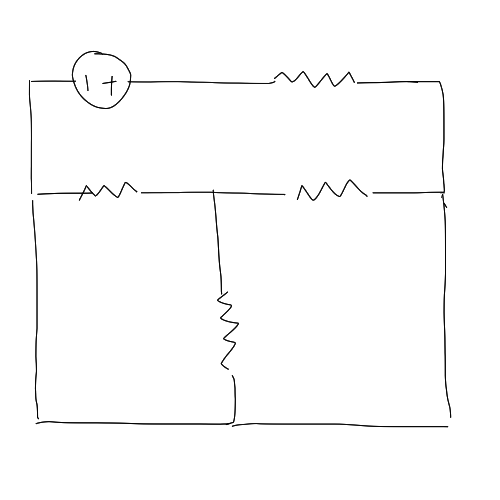dcvs: (70, 49, 137, 112)
res: (207, 288, 246, 377), (284, 176, 375, 207), (268, 64, 360, 92), (75, 175, 152, 203)
